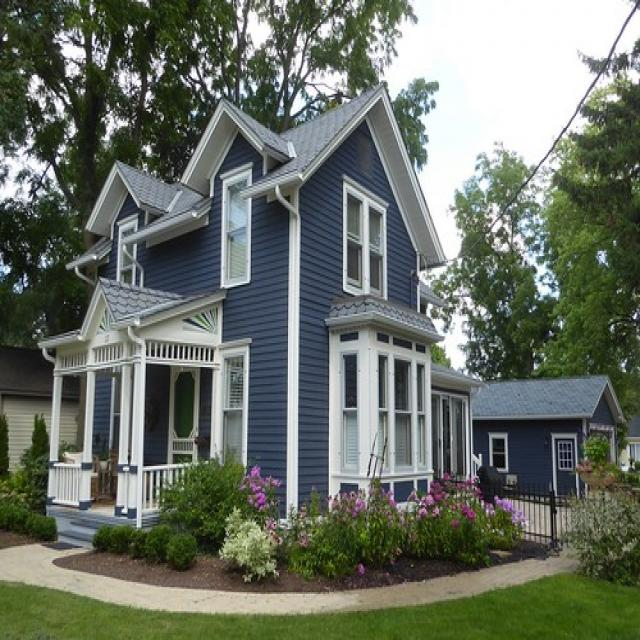Normal_building: (36, 75, 484, 553), (464, 374, 624, 563)
